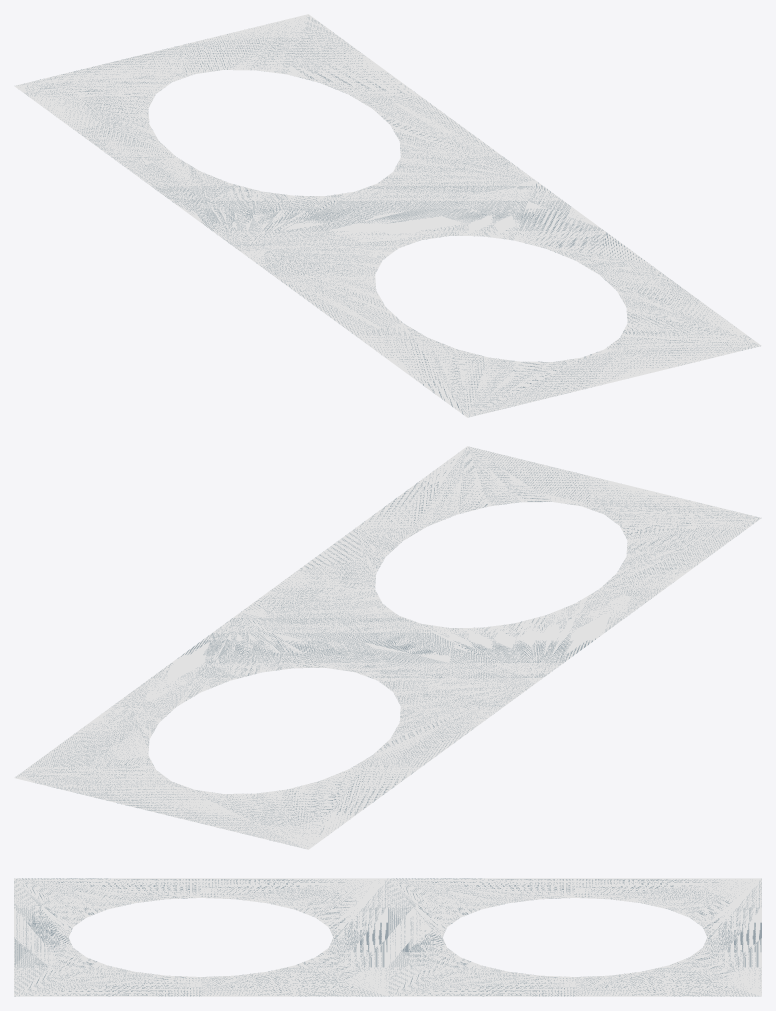
3 views of the same model, one above another, from view 1: azimuth 30°, elevation 25°; view 2: azimuth 150°, elevation 25°; view 3: azimuth 270°, elevation 25° (orthographic). The views are drawn at different scales.
Visible parts, largest first — view 1: Group1, Group3, Group2, Group4; view 2: Group1, Group3, Group2, Group4; view 3: Group1, Group2, Group3, Group4.
Boxes of the visible parts, x1,y1,x2,y2 form: Group1: (354, 263, 761, 417); Group3: (14, 14, 421, 168); Group2: (241, 180, 647, 334); Group4: (128, 97, 534, 251); Group1: (354, 446, 761, 600); Group3: (14, 695, 421, 849); Group2: (241, 529, 647, 683); Group4: (128, 612, 534, 766); Group1: (14, 878, 200, 996); Group2: (201, 878, 387, 996); Group3: (575, 878, 761, 996); Group4: (388, 878, 574, 996).
Bounding box in the file's own units: 6 × 2.65e-14 × 16.
